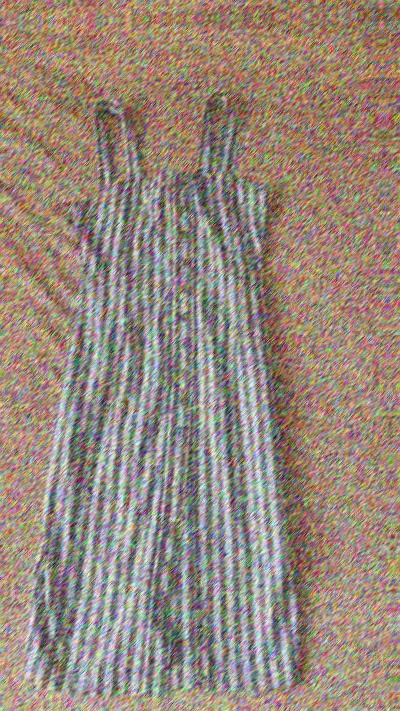Dress: (0, 88, 312, 711)
